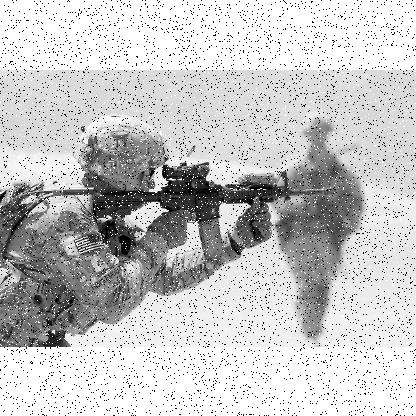gun: (51, 159, 333, 257)
